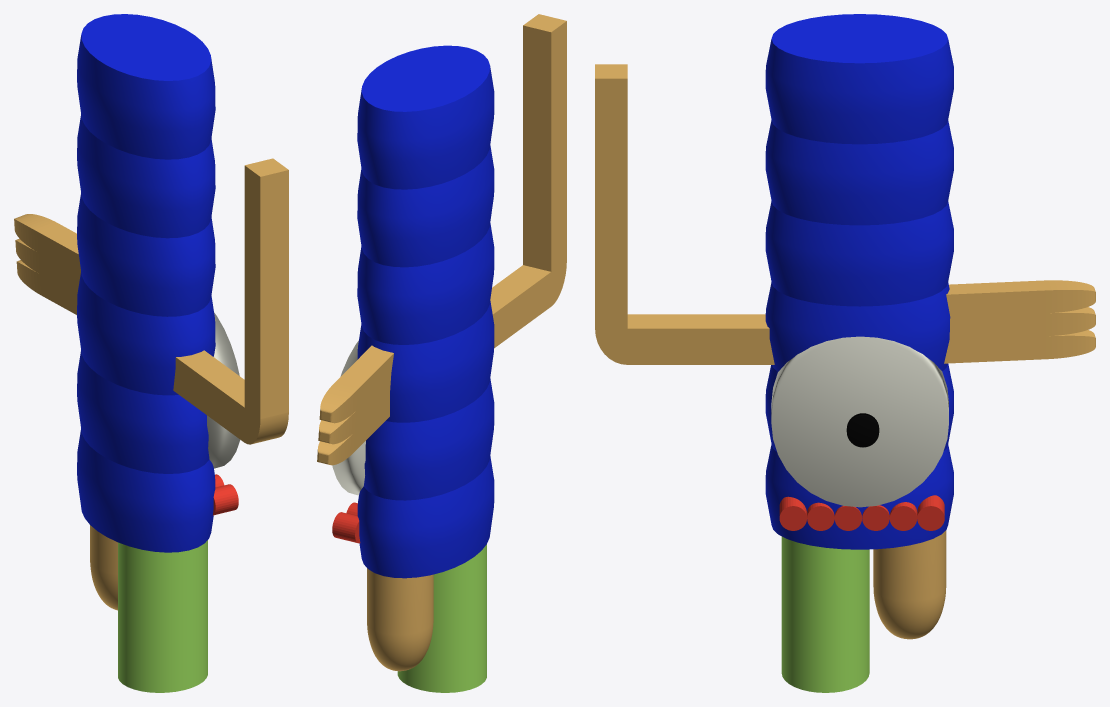
File: blauw.gltf
The picture shows the model from 3 angles, left to right: view 1: azimuth 30°, elevation 25°; view 2: azimuth 150°, elevation 25°; view 3: azimuth 270°, elevation 25°; orthographic projection. The views are drawn at different scales.
Visible parts, largest first — view 1: body.001, leftarm, greenCilinder, righthand, eye.001, foot, arrayCilindere; view 2: body.001, leftarm, greenCilinder, righthand, foot, eye.001, arrayCilindere; view 3: body.001, eye.001, leftarm, greenCilinder, righthand, foot, arrayCilindere, eyeCirc.
Boxes of the visible parts, <box> form: body.001: <box>77,14,215,552</box>; leftarm: <box>173,158,288,444</box>; greenCilinder: <box>118,540,207,692</box>; righthand: <box>14,214,80,314</box>; eye.001: <box>207,312,240,468</box>; foot: <box>90,525,117,610</box>; arrayCilindere: <box>212,474,238,515</box>; body.001: <box>357,45,494,578</box>; leftarm: <box>490,14,566,348</box>; greenCilinder: <box>397,544,486,692</box>; righthand: <box>317,345,393,465</box>; foot: <box>367,568,433,671</box>; eye.001: <box>332,340,365,495</box>; arrayCilindere: <box>332,502,360,543</box>; body.001: <box>765,14,953,549</box>; eye.001: <box>771,336,948,507</box>; leftarm: <box>595,64,774,364</box>; greenCilinder: <box>781,536,869,692</box>; righthand: <box>944,280,1095,363</box>; foot: <box>873,530,946,639</box>; arrayCilindere: <box>779,495,944,530</box>; eyeCirc: <box>846,413,879,447</box>.
Size of the model in its own units: 0.4534 by 2.28 by 1.63.
